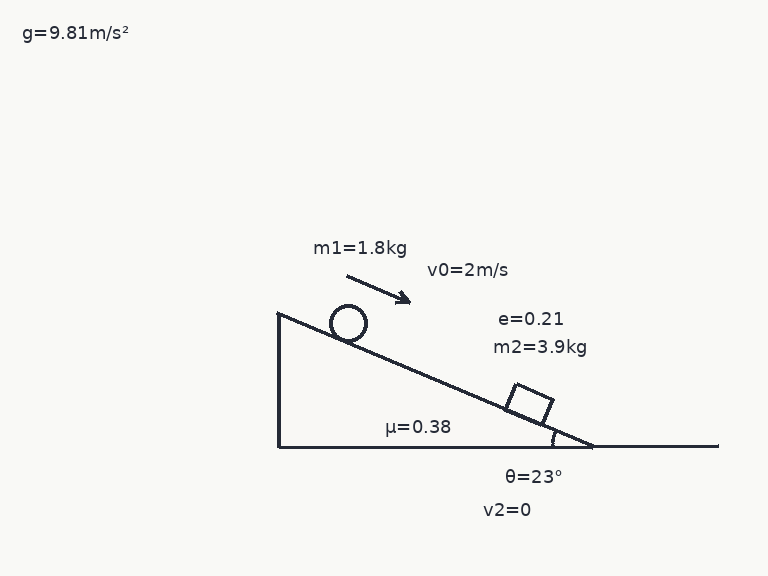ball: (327, 302, 369, 344)
block: (502, 381, 554, 427)
ramp: (276, 312, 594, 449)
